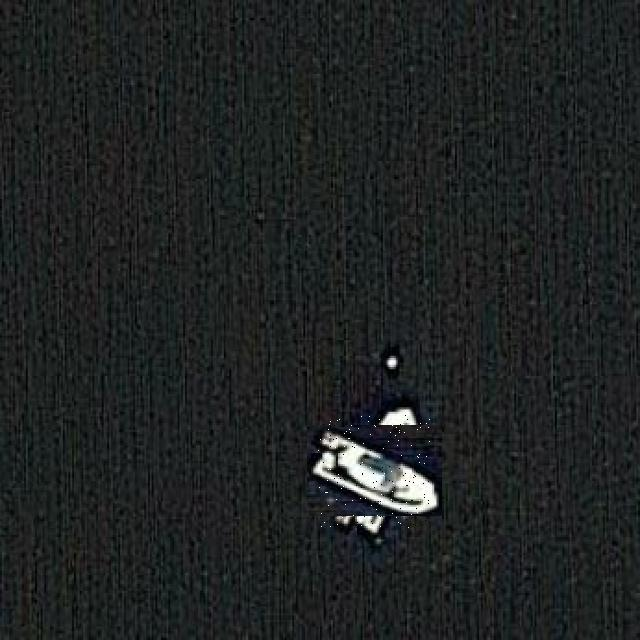boat: (318, 414, 431, 528)
